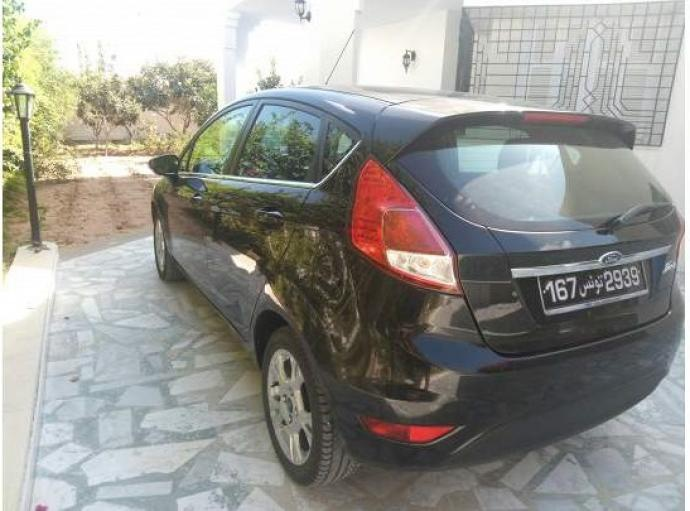LP: (537, 259, 649, 314)
